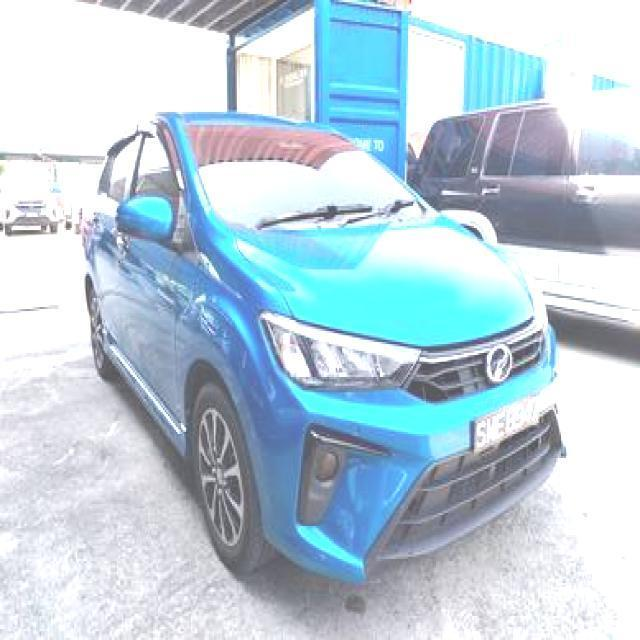PeroduaBezza: (81, 108, 567, 584)
